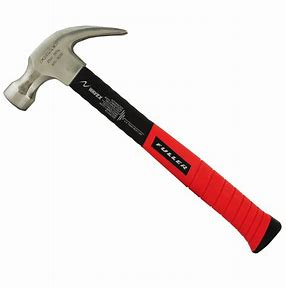martillu: (3, 22, 284, 264)
